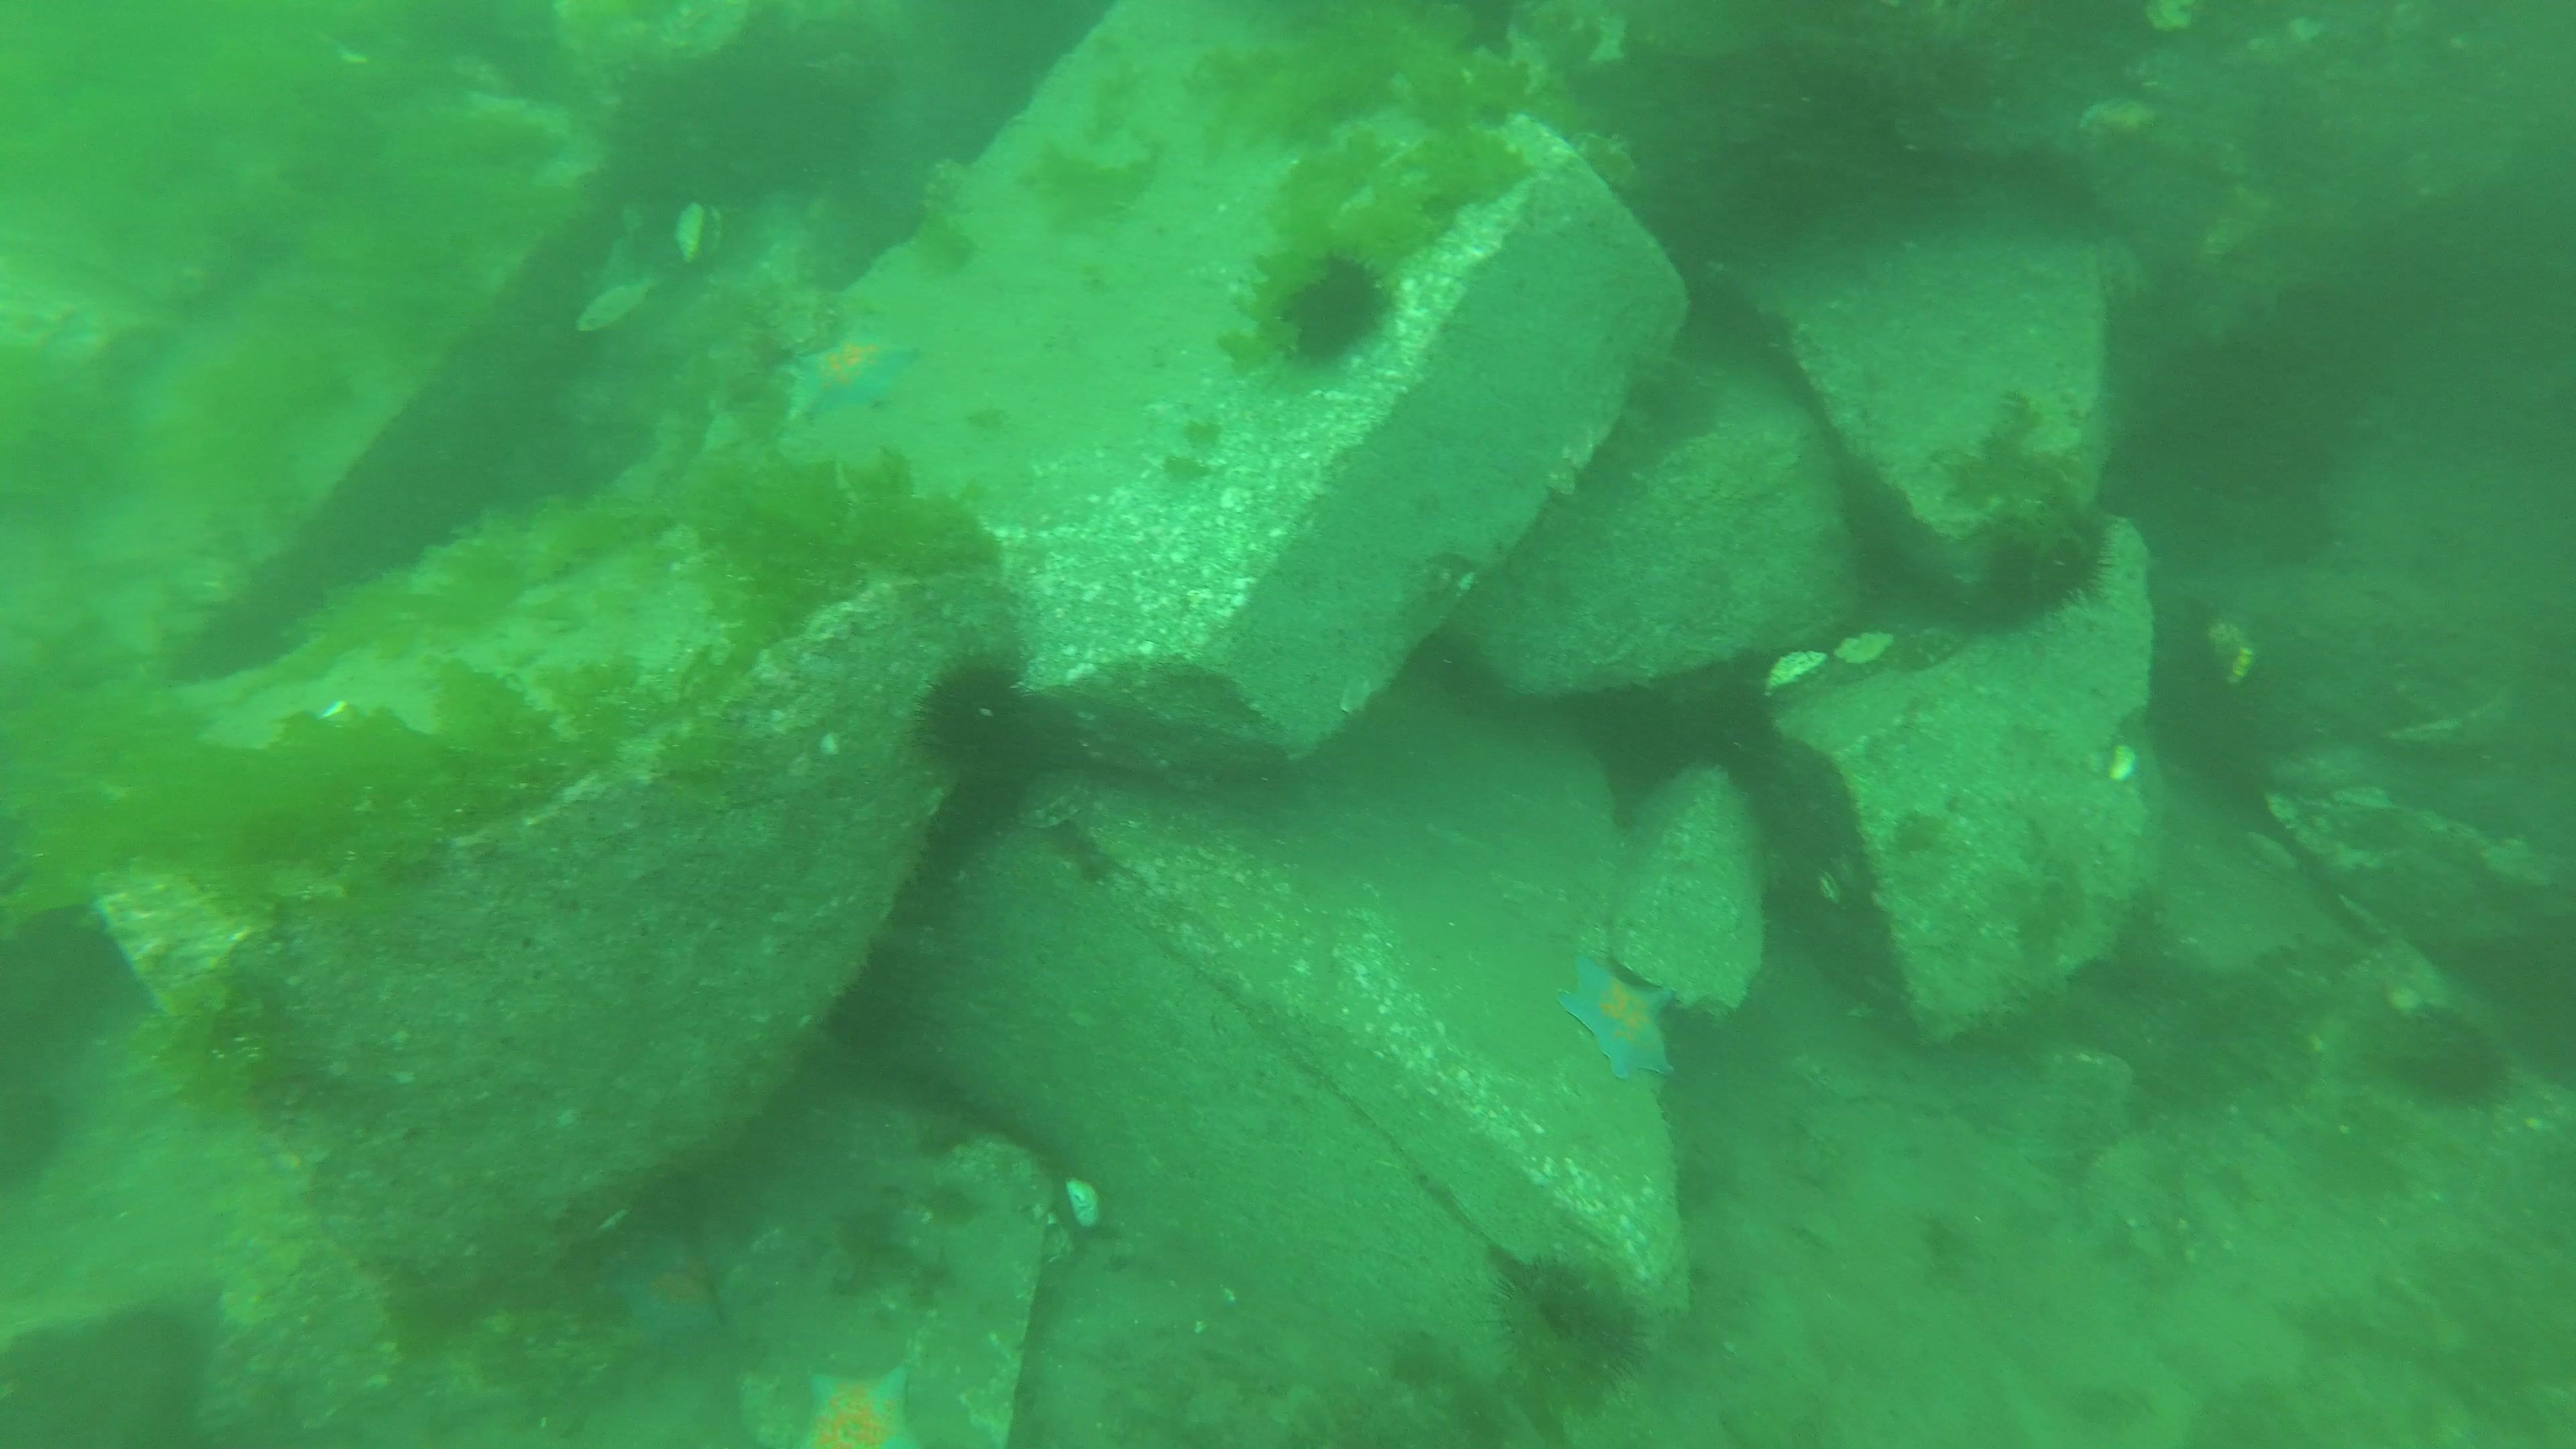echinus: (1499, 1263, 1656, 1396), (2364, 1003, 2514, 1109), (1987, 511, 2120, 626), (909, 658, 1031, 777), (1283, 248, 1396, 361), (1704, 683, 1790, 786)
starfish: (1559, 955, 1679, 1083), (789, 318, 913, 428), (607, 1237, 731, 1343), (809, 1364, 925, 1449)
